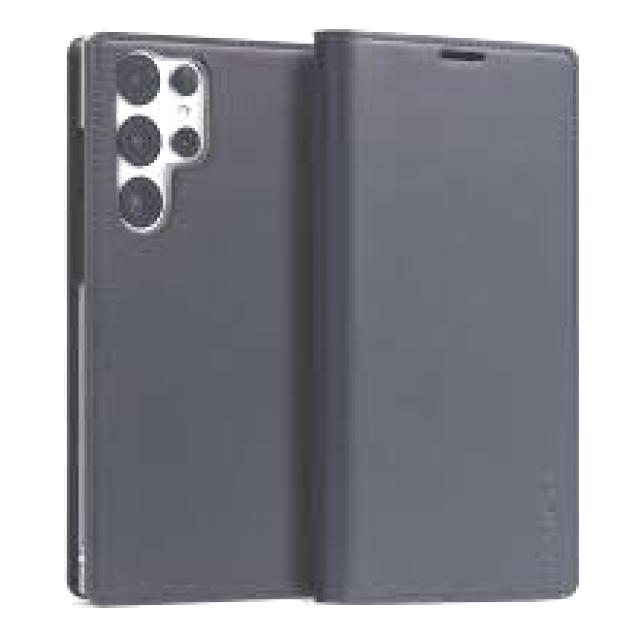lens: (105, 47, 212, 229)
phone: (61, 21, 319, 615)
